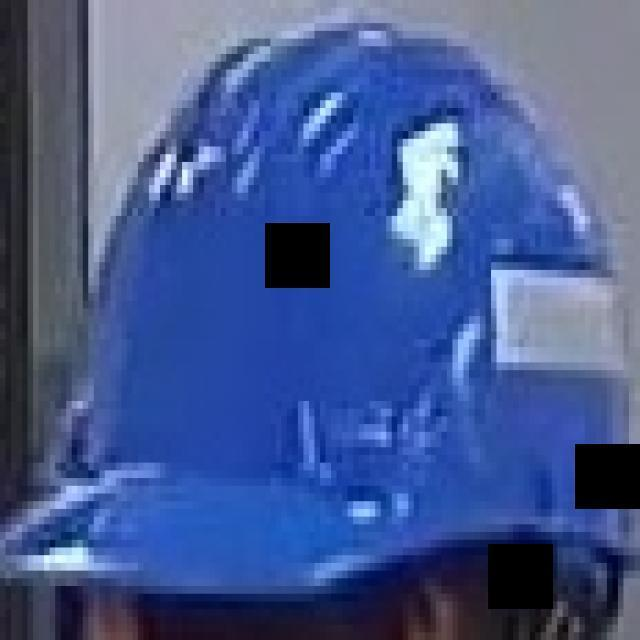blue helmet: (7, 31, 640, 609)
